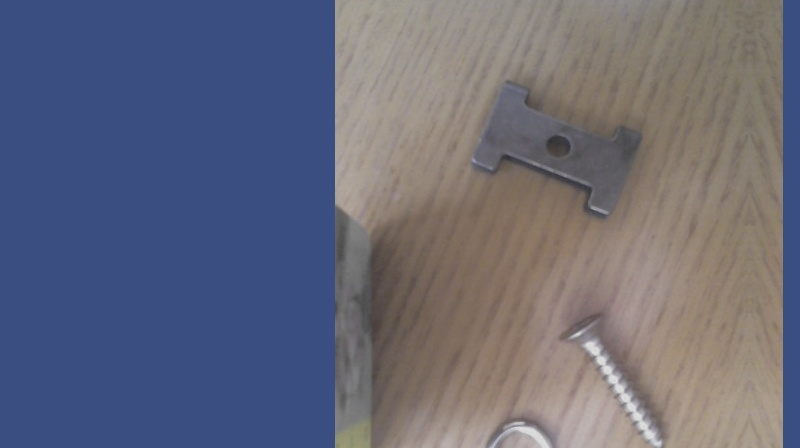O001: (480, 415, 556, 447)
O002: (463, 74, 646, 219)
S001: (555, 306, 670, 447)
